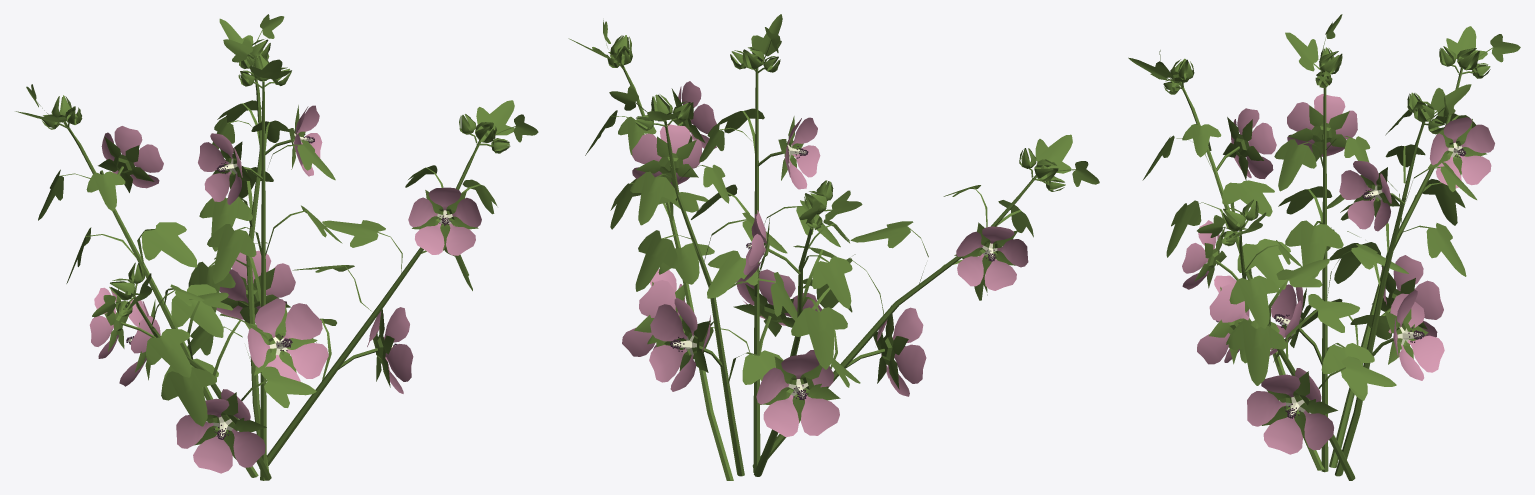
Rendered from anisodontea_capensis.fbx.
3 views of the same model, side by side, from view 1: azimuth 30°, elevation 25°; view 2: azimuth 150°, elevation 25°; view 3: azimuth 270°, elevation 25° (orthographic). The views are drawn at different scales.
Parts seen in each view (by area): view 1: group2_fleur1_étamines_pSphere9; view 2: group2_fleur1_étamines_pSphere9; view 3: group2_fleur1_étamines_pSphere9.
Boxes of the visible parts, x1=… form: group2_fleur1_étamines_pSphere9: x1=15, y1=14, x2=538, y2=480; group2_fleur1_étamines_pSphere9: x1=568, y1=14, x2=1099, y2=480; group2_fleur1_étamines_pSphere9: x1=1128, y1=14, x2=1520, y2=480.
Bounding box in the file's own units: 10.1 × 9.12 × 7.27.
